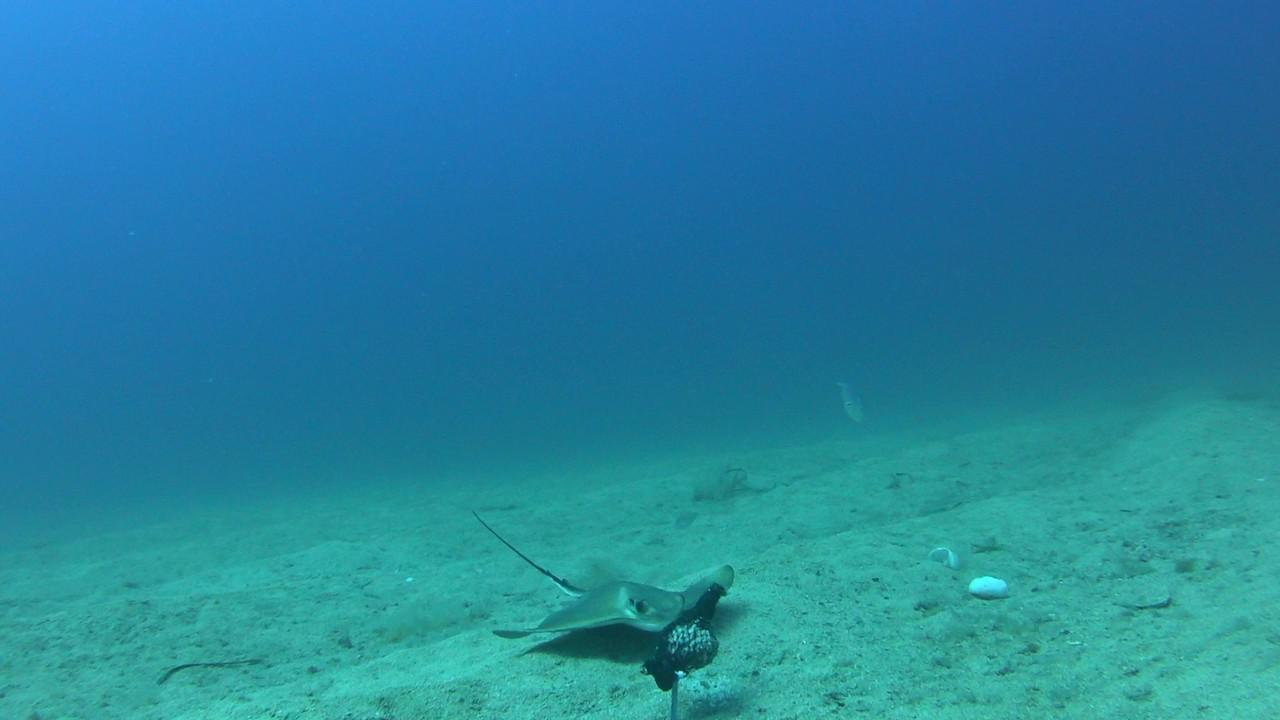myliobatis: (439, 483, 745, 638)
